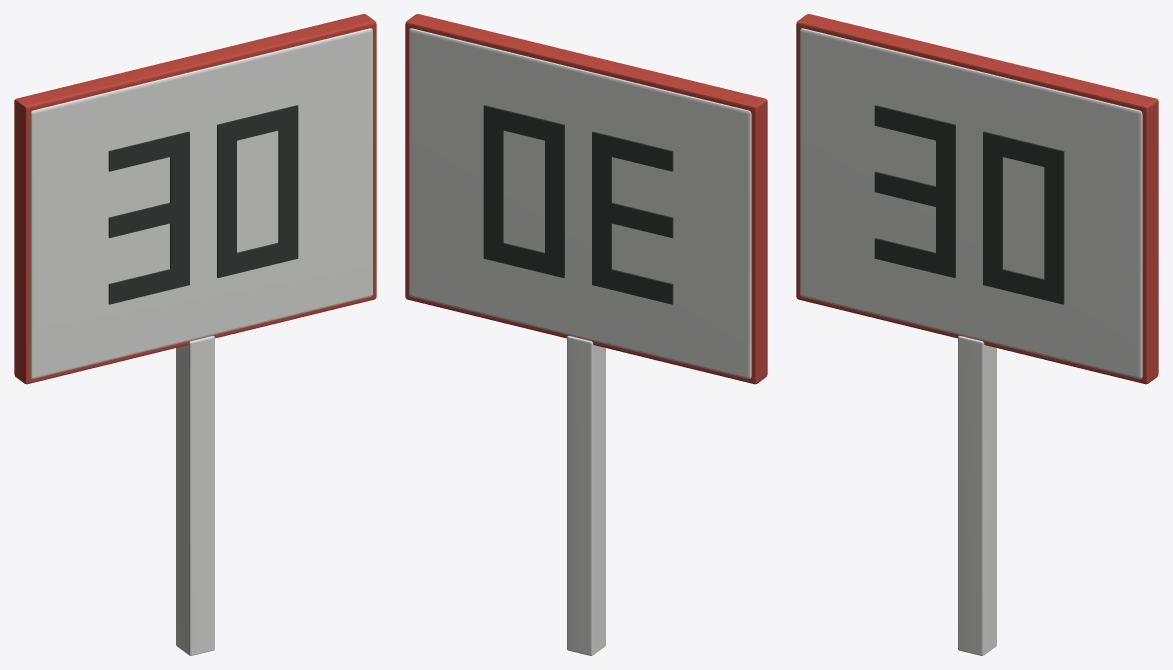
File: sport.stunt.yard_board_30.glb
The picture shows the model from 3 angles, left to right: view 1: azimuth 30°, elevation 25°; view 2: azimuth 150°, elevation 25°; view 3: azimuth 330°, elevation 25°; orthographic projection.
Visible parts, largest first — view 1: main__paint_eed, main__paint_333, main__paint_c44; view 2: main__paint_eed, main__paint_333, main__paint_c44; view 3: main__paint_eed, main__paint_333, main__paint_c44.
Part boxes in pixels (x1=…): main__paint_eed: x1=30, y1=28, x2=372, y2=655; main__paint_333: x1=108, y1=105, x2=298, y2=304; main__paint_c44: x1=14, y1=14, x2=376, y2=384; main__paint_eed: x1=409, y1=28, x2=751, y2=655; main__paint_333: x1=483, y1=105, x2=673, y2=304; main__paint_c44: x1=405, y1=14, x2=767, y2=384; main__paint_eed: x1=800, y1=28, x2=1142, y2=655; main__paint_333: x1=874, y1=105, x2=1064, y2=304; main__paint_c44: x1=796, y1=14, x2=1158, y2=384.
Size of the model in its own units: 0.82 by 1.31 by 0.068.
